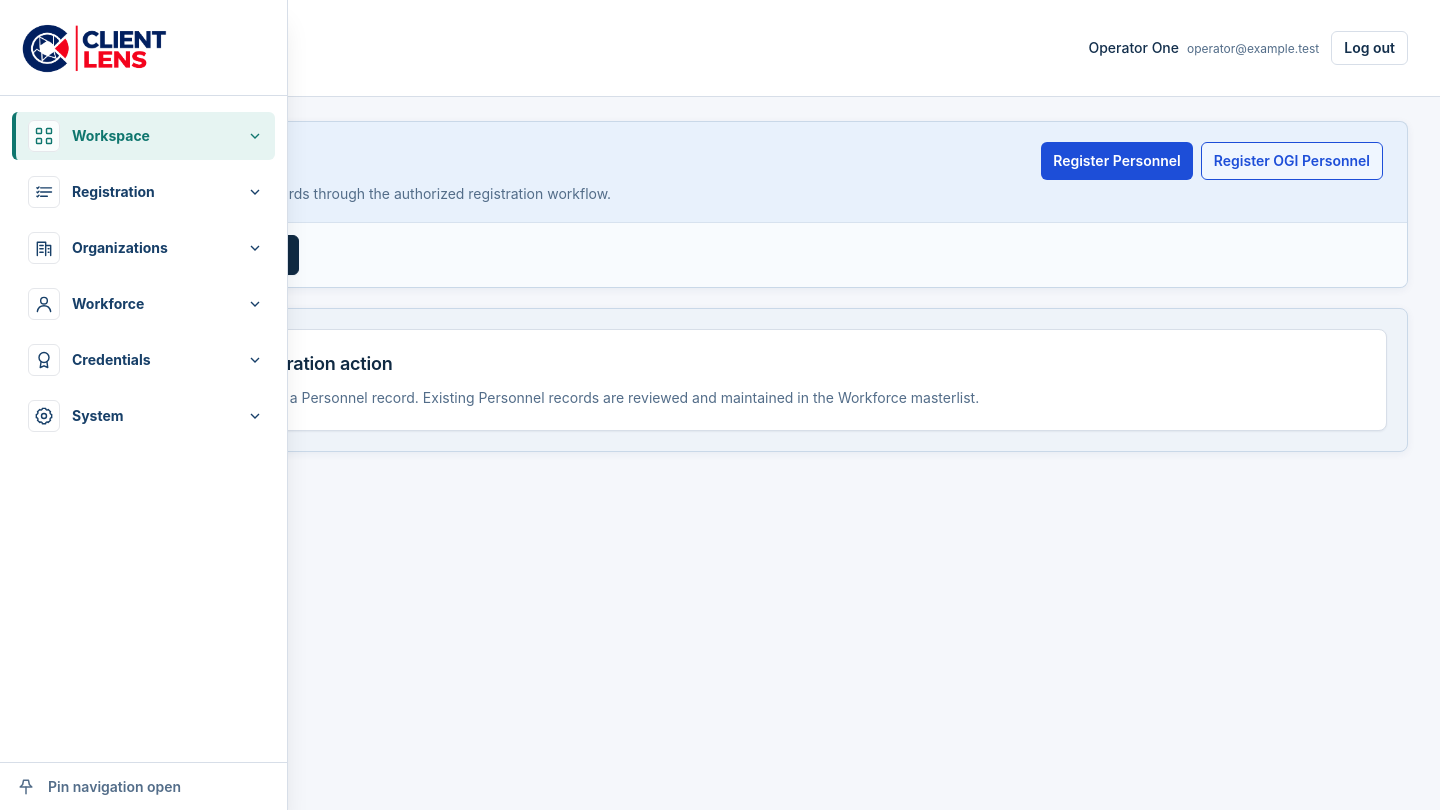
Registration Personnel frontend › registers OGI Personnel by deliberately linking an active unlinked platform user
Click the button "Register OGI Personnel" at (1292, 161), box [1201,142,1383,180]
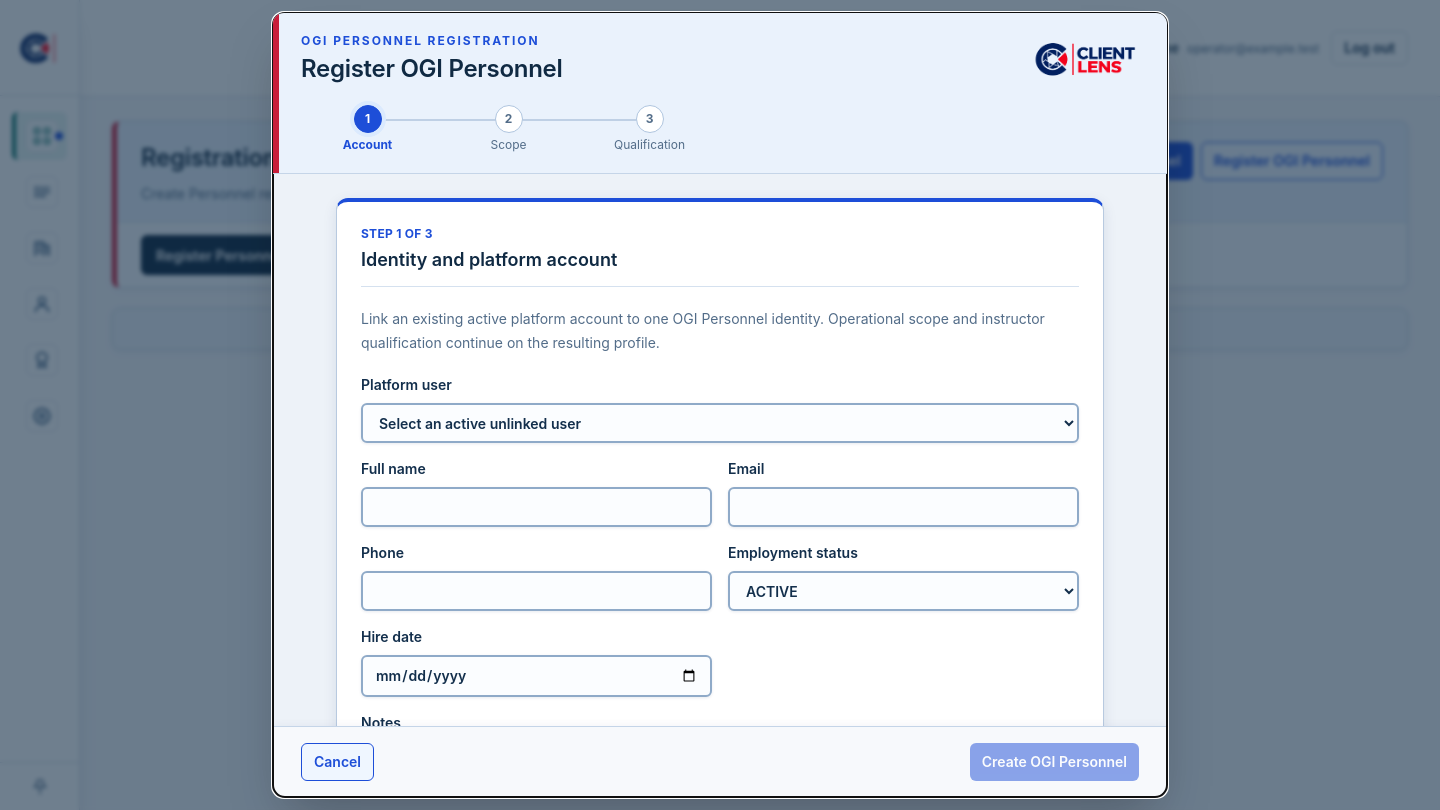
Select "Braven Burrows · braven@ogiofficial.com" in the dropdown labelled "Platform user" at (720, 423), box [361,403,1079,443]
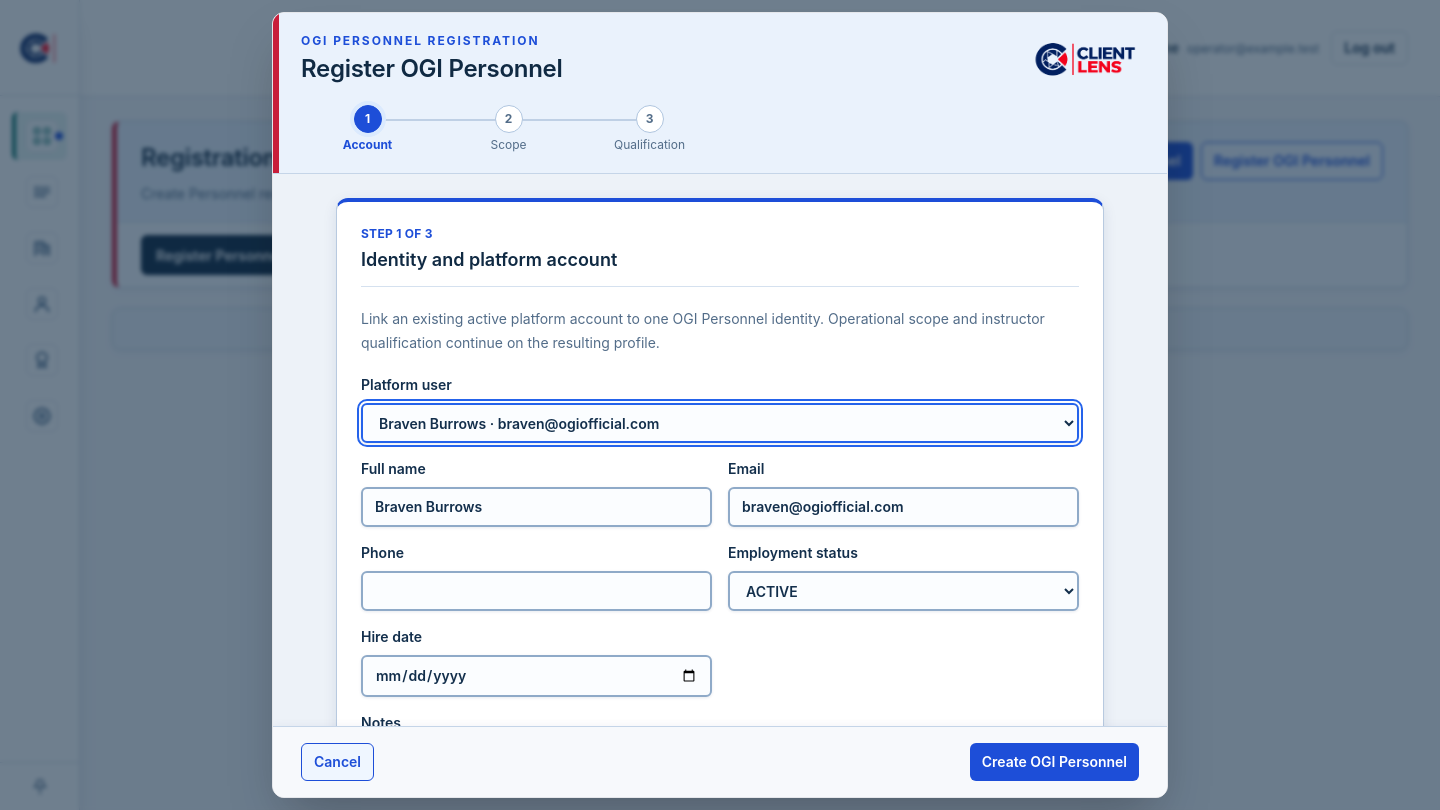
Expected: the field labelled "Full name" holds "Braven Burrows", [361,487,712,527]
Click the button "Create OGI Personnel" at (1054, 762), box [970,743,1139,781]
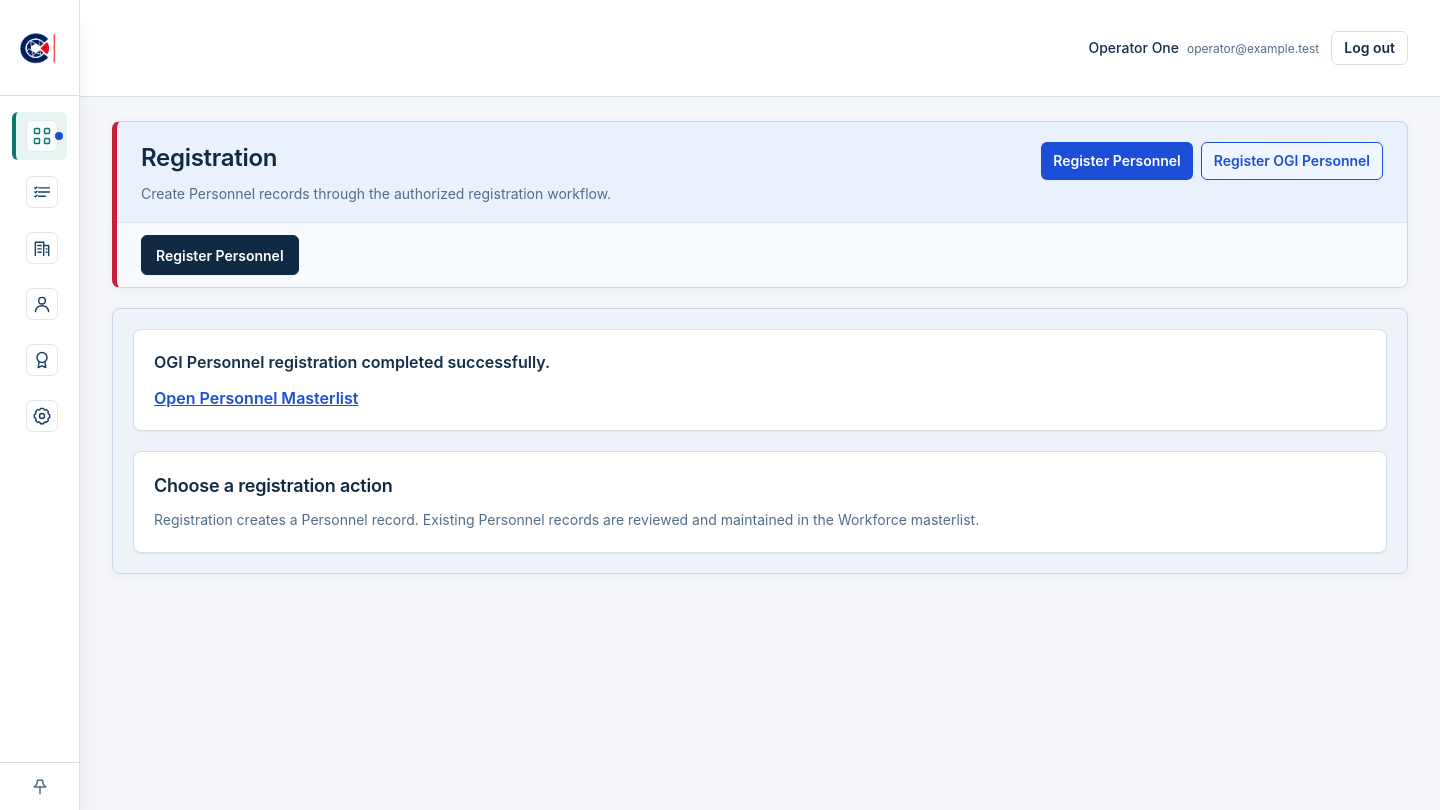
Expected: the text "OGI Personnel registration completed successfully." is shown, [154,352,550,372]
